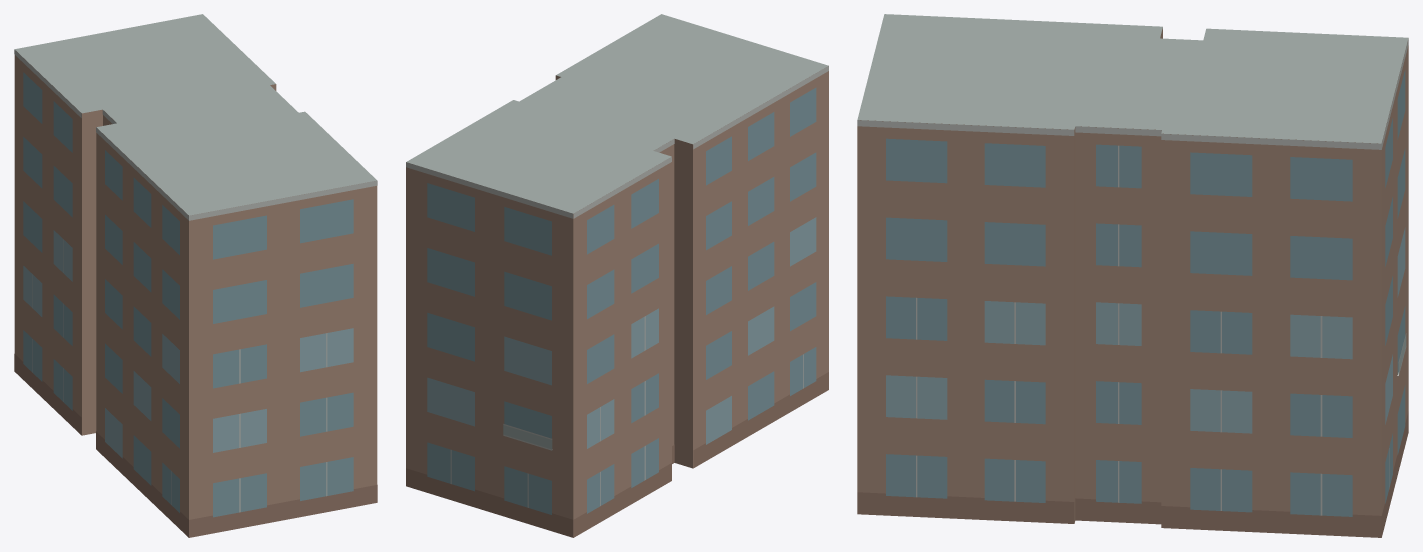
The model's file is survey-upis-32679578.glb.
3 views of the same model, side by side, from view 1: azimuth 30°, elevation 25°; view 2: azimuth 150°, elevation 25°; view 3: azimuth 270°, elevation 25° (orthographic). The views are drawn at different scales.
Parts seen in each view (by area): view 1: survey-upis-32679578.tmp; view 2: survey-upis-32679578.tmp; view 3: survey-upis-32679578.tmp.
Part boxes in pixels (x1,y1,x2,y2): survey-upis-32679578.tmp: (14, 14, 377, 537); survey-upis-32679578.tmp: (406, 14, 828, 537); survey-upis-32679578.tmp: (857, 14, 1408, 537).
Bounding box in the file's own units: 10.72 × 15.2 × 19.27.
